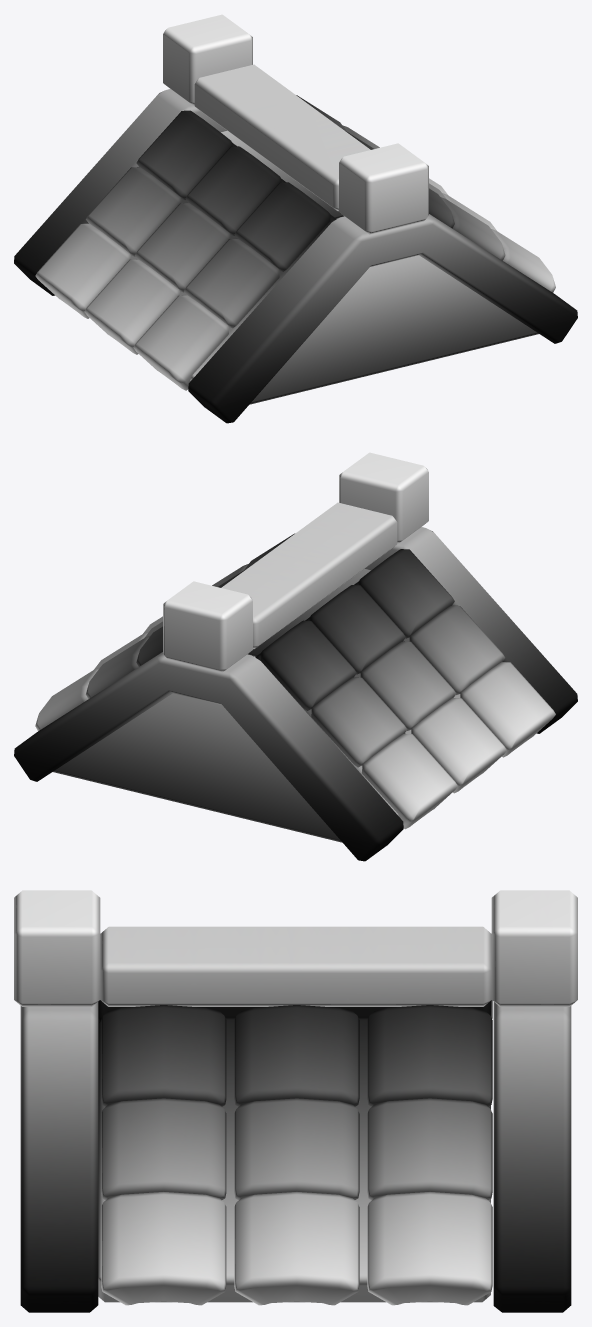
The model's file is SM_Brick_Roof_01.fbx.
3 views of the same model, one above another, from view 1: azimuth 30°, elevation 25°; view 2: azimuth 150°, elevation 25°; view 3: azimuth 270°, elevation 25° (orthographic). The views are drawn at different scales.
Visible parts, largest first — view 1: SM_Brick_Roof_01; view 2: SM_Brick_Roof_01; view 3: SM_Brick_Roof_01.
Part boxes in pixels (left/top/right/bottom): SM_Brick_Roof_01: left=14, top=14, right=577, bottom=423; SM_Brick_Roof_01: left=14, top=452, right=577, bottom=861; SM_Brick_Roof_01: left=14, top=890, right=577, bottom=1312.
Bounding box in the file's own units: 1.09 × 0.5798 × 1.01.
